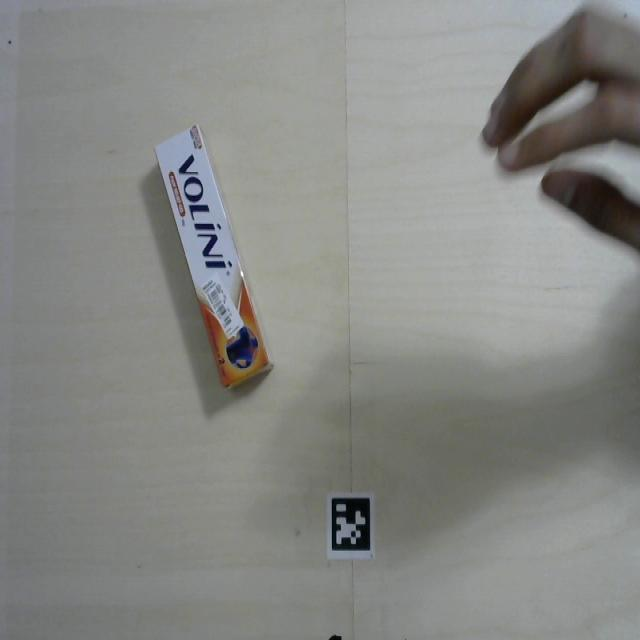volini: (154, 117, 279, 398)
